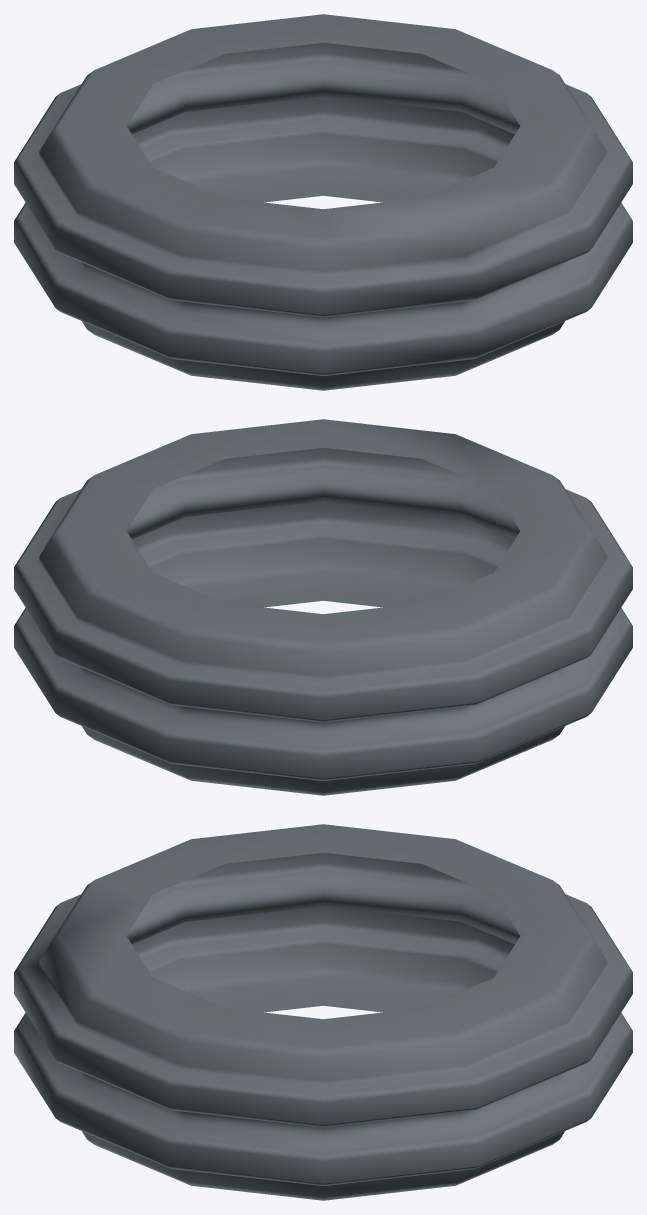
File: spouting-flange-unit-tripo-original.glb
3 renders of one model, top to bottom at view 1: azimuth 30°, elevation 25°; view 2: azimuth 150°, elevation 25°; view 3: azimuth 270°, elevation 25°, orthographic.
Parts seen in each view (by area): view 1: Authored_surface; view 2: Authored_surface; view 3: Authored_surface.
Part boxes in pixels (x1,y1,x2,y2): Authored_surface: (14,14,632,390); Authored_surface: (14,419,632,795); Authored_surface: (14,824,632,1200).
Bounding box in the file's own units: 1 × 0.2727 × 1.
Materials: 1 (1 with a texture image).
